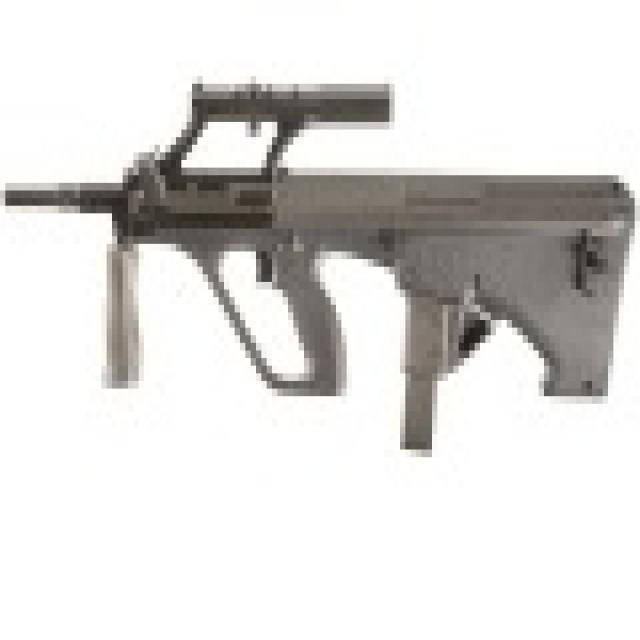Gun: (38, 43, 627, 478)
